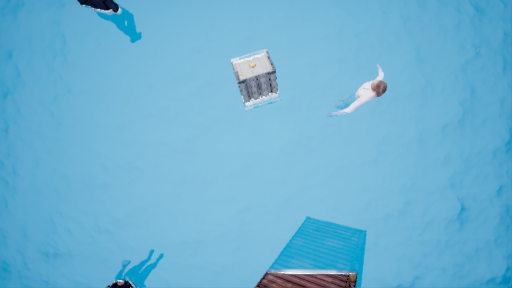person: (82, 1, 147, 58), (332, 60, 384, 130)
